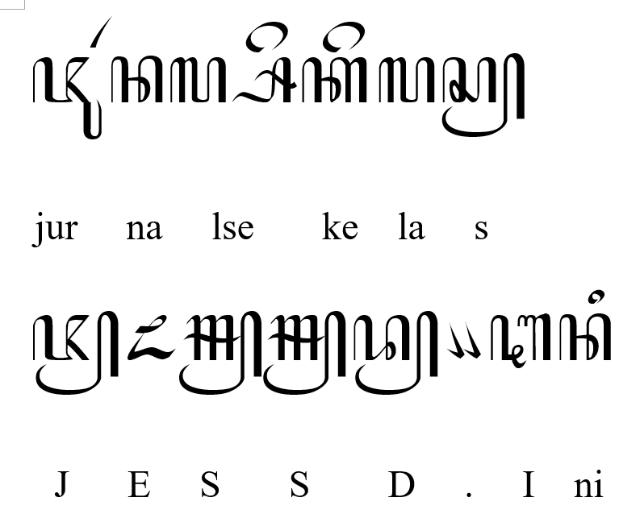-S: (178, 311, 262, 397), (263, 310, 347, 396)
-d: (353, 310, 439, 396)
-j: (32, 311, 120, 397)
-s: (440, 52, 526, 138)
E: (126, 314, 176, 362)
I: (489, 313, 551, 369)
_r: (88, 16, 112, 50)
_s: (229, 56, 297, 104)
e: (322, 20, 366, 54), (245, 20, 289, 53)
i: (588, 290, 604, 306)
ju: (32, 56, 102, 140)
k: (302, 56, 368, 104)
kom: (447, 322, 465, 360), (464, 320, 481, 360)
l: (168, 56, 228, 104), (378, 56, 436, 104)
n: (110, 54, 164, 104), (558, 312, 612, 362)
